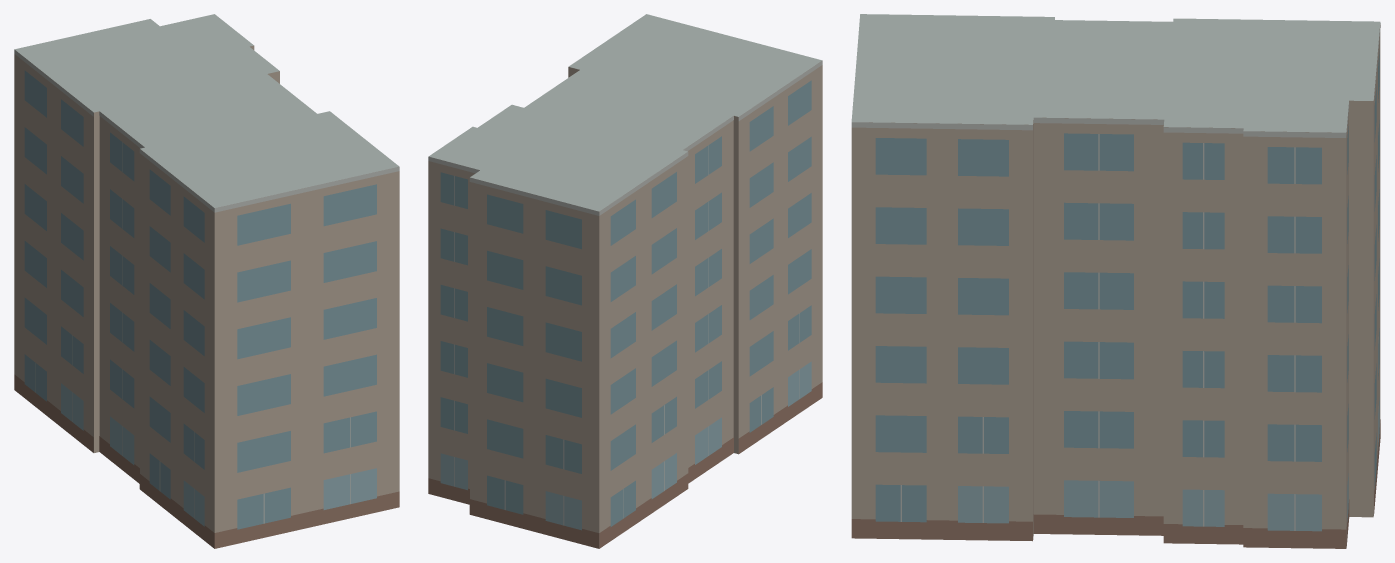
Rendered from survey-upis-32663698.glb.
3 renders of one model, left to right at view 1: azimuth 30°, elevation 25°; view 2: azimuth 150°, elevation 25°; view 3: azimuth 270°, elevation 25°, orthographic. The views are drawn at different scales.
Parts seen in each view (by area): view 1: survey-upis-32663698.tmp; view 2: survey-upis-32663698.tmp; view 3: survey-upis-32663698.tmp.
Boxes of the visible parts, x1,y1,x2,y2 form: survey-upis-32663698.tmp: (14, 14, 399, 548); survey-upis-32663698.tmp: (428, 14, 822, 548); survey-upis-32663698.tmp: (851, 14, 1380, 548).
Bounding box in the file's own units: 11.38 × 18.6 × 21.43.
